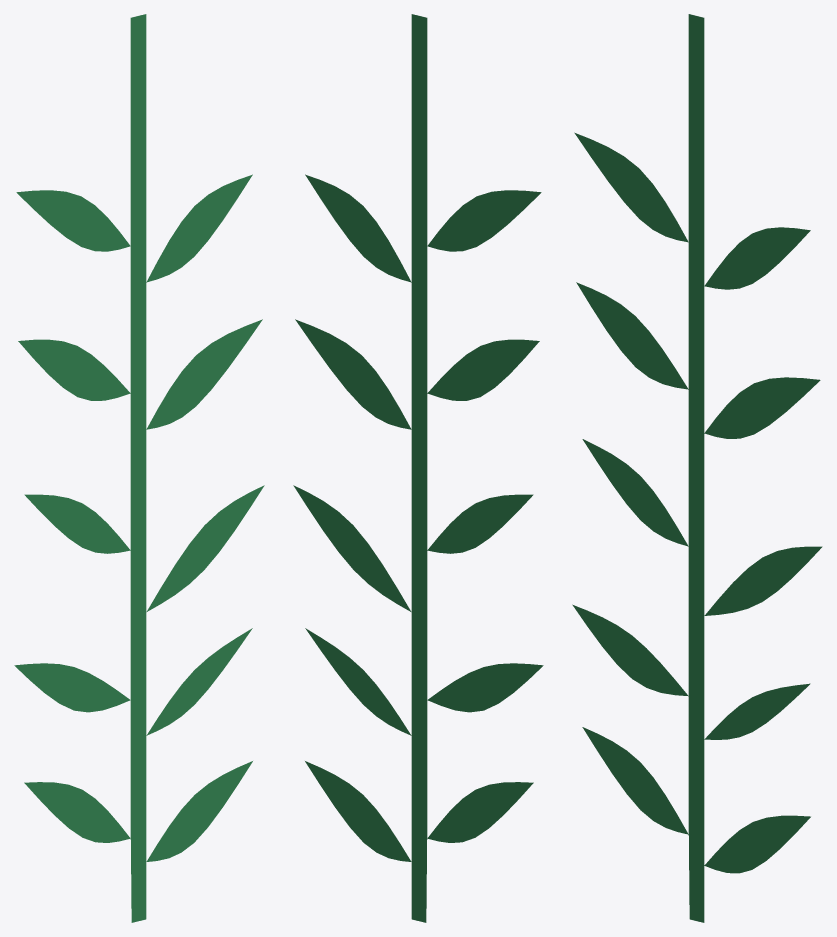
The model's file is seaweed_3.fbx.
3 views of the same model, side by side, from view 1: azimuth 30°, elevation 25°; view 2: azimuth 150°, elevation 25°; view 3: azimuth 330°, elevation 25° (orthographic).
Visible parts, largest first — view 1: seaweed_3; view 2: seaweed_3; view 3: seaweed_3.
Part boxes in pixels (<box>): seaweed_3: <box>14,14,264,922</box>; seaweed_3: <box>293,14,543,922</box>; seaweed_3: <box>572,14,822,922</box>.
Bounding box in the file's own units: 320 × 1103 × 0.000183.
